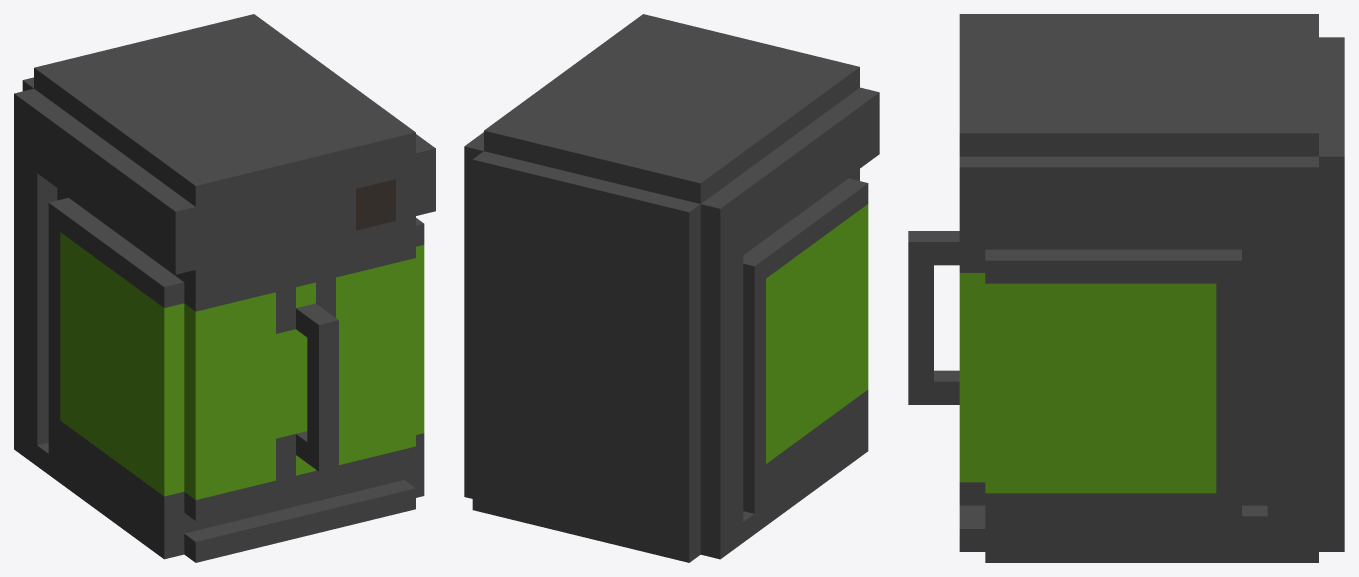
File: CofeMachine.obj
The picture shows the model from 3 angles, left to right: view 1: azimuth 30°, elevation 25°; view 2: azimuth 150°, elevation 25°; view 3: azimuth 270°, elevation 25°; orthographic projection. The views are drawn at different scales.
Bounding box in the file's own units: 1.3 × 1.8 × 1.7.
